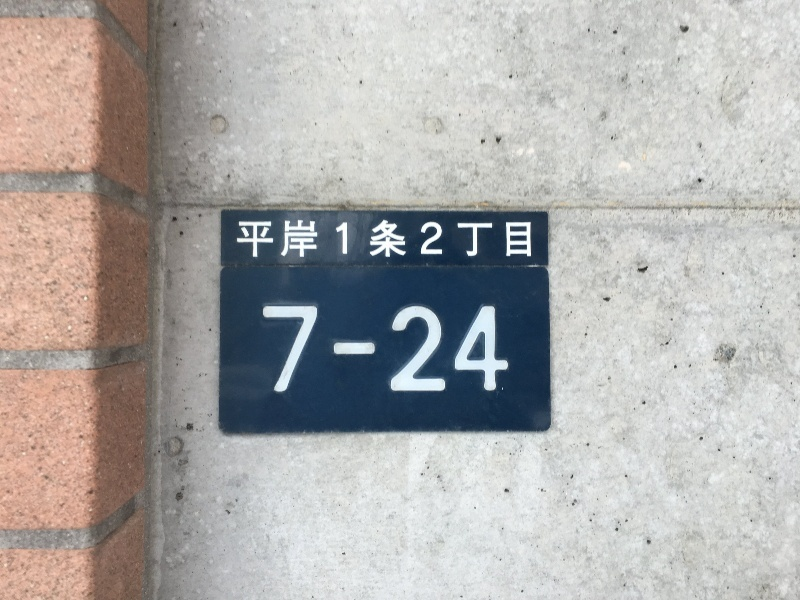text: (273, 297, 288, 399), (289, 297, 304, 399), (305, 297, 320, 399), (321, 297, 336, 399), (337, 297, 352, 399), (353, 297, 368, 399), (369, 297, 384, 399), (385, 297, 400, 399), (401, 297, 416, 399), (417, 297, 432, 399), (433, 297, 448, 399), (449, 297, 464, 399), (465, 297, 480, 399), (481, 297, 496, 399), (497, 297, 512, 399), (261, 297, 272, 399), (241, 220, 256, 260), (257, 220, 272, 260), (273, 220, 288, 260), (289, 220, 304, 260), (305, 220, 320, 260), (321, 220, 336, 260), (337, 220, 352, 260), (353, 220, 368, 260), (369, 220, 384, 260), (385, 220, 400, 260), (401, 220, 416, 260), (417, 220, 432, 260), (433, 220, 448, 260), (449, 220, 464, 260), (465, 220, 480, 260), (481, 220, 496, 260), (497, 220, 512, 260), (513, 220, 528, 260), (529, 220, 534, 260), (236, 220, 240, 260)
